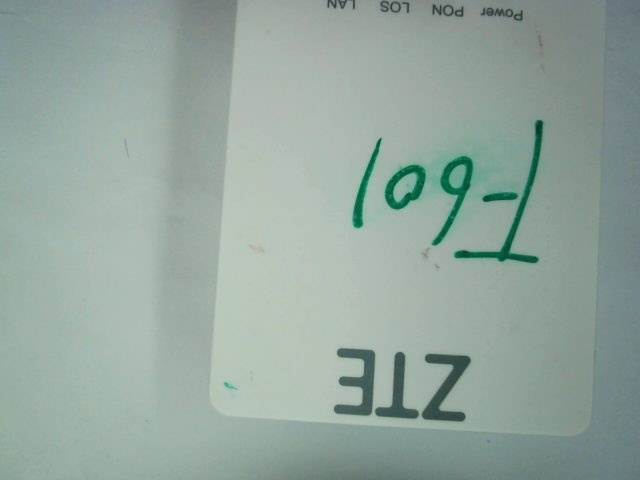AN_ZTE: (323, 342, 474, 422)
